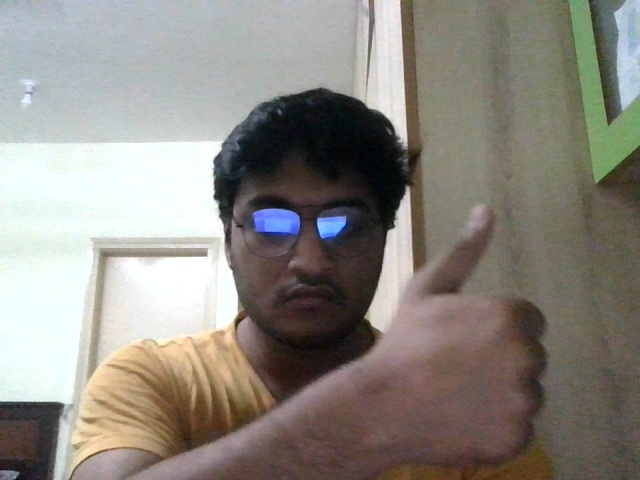thumbsup: (378, 203, 544, 465)
